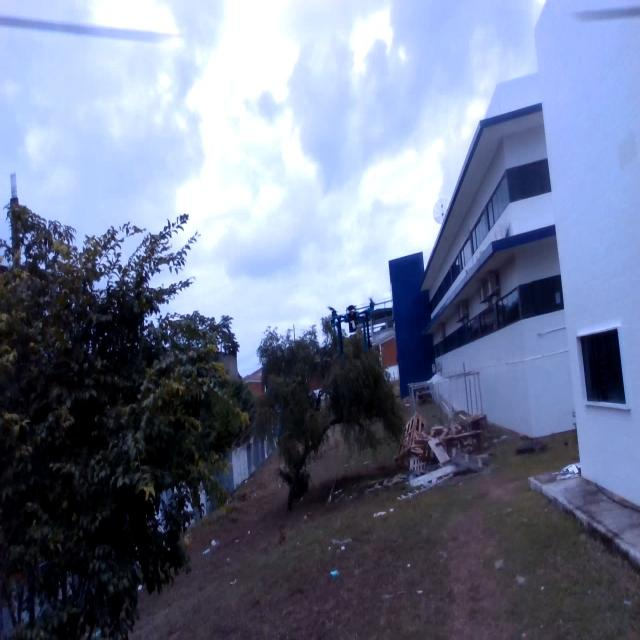-uav-: (321, 296, 391, 354)
